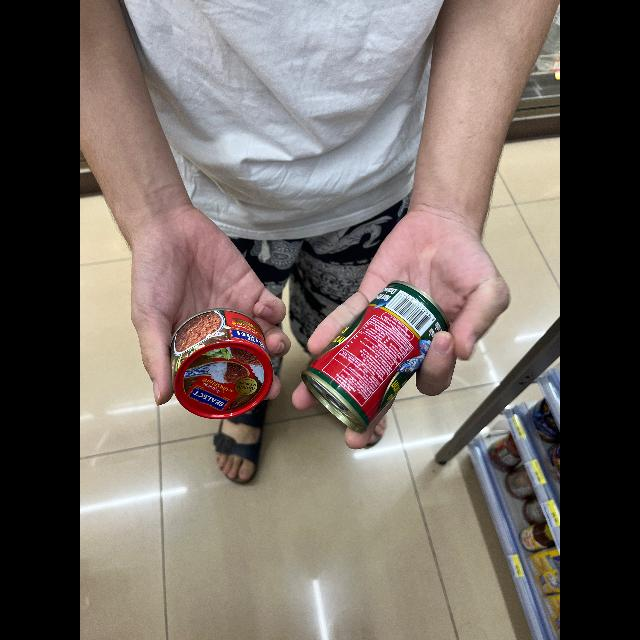can: (290, 277, 444, 435), (164, 309, 278, 426)
